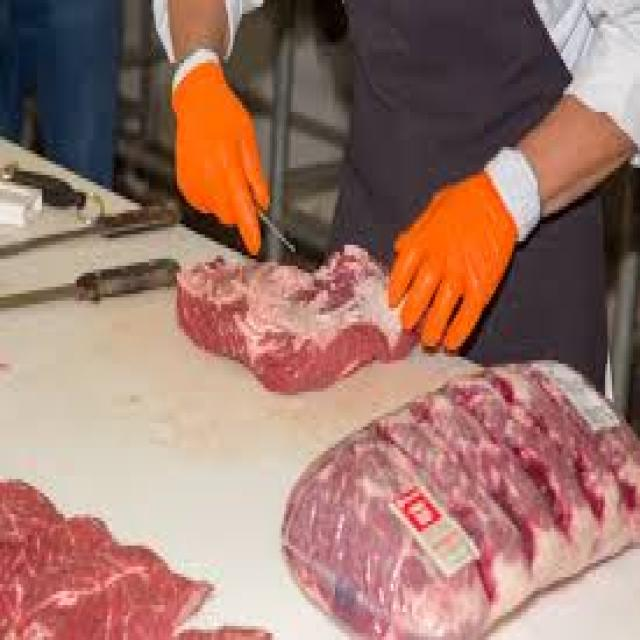Organik: (265, 342, 639, 640), (0, 458, 272, 640), (147, 239, 437, 403)
